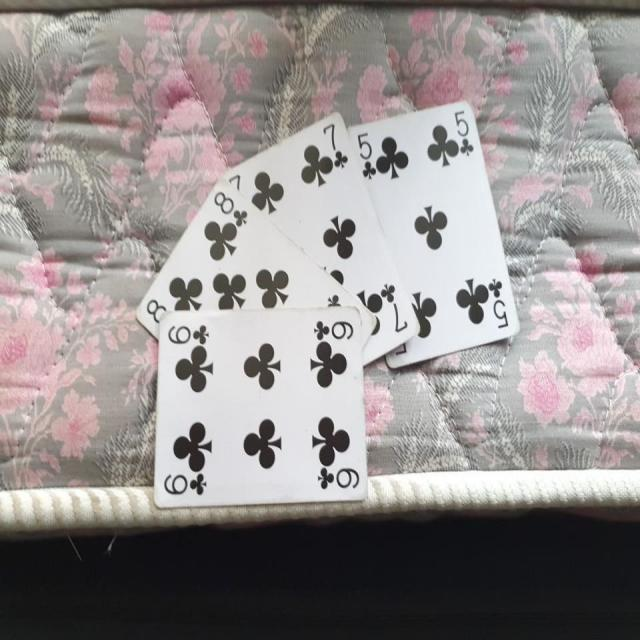5 Trefoils: (348, 100, 520, 372)
6 Trefoils: (152, 306, 371, 509)
7 Trefoils: (224, 111, 420, 370)
8 Trefoils: (135, 178, 377, 356)
